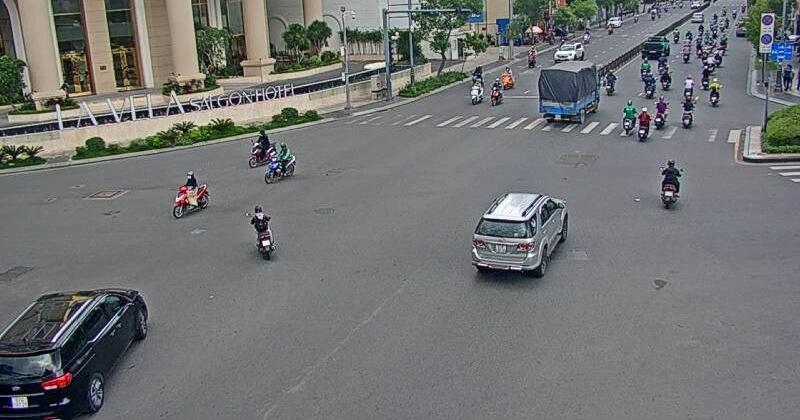xe hoi: (0, 286, 149, 420), (469, 190, 569, 280)
xe may: (173, 169, 210, 218), (263, 140, 295, 184), (250, 207, 278, 257), (247, 129, 276, 169), (658, 160, 680, 211)
xe tai: (537, 60, 602, 125)
